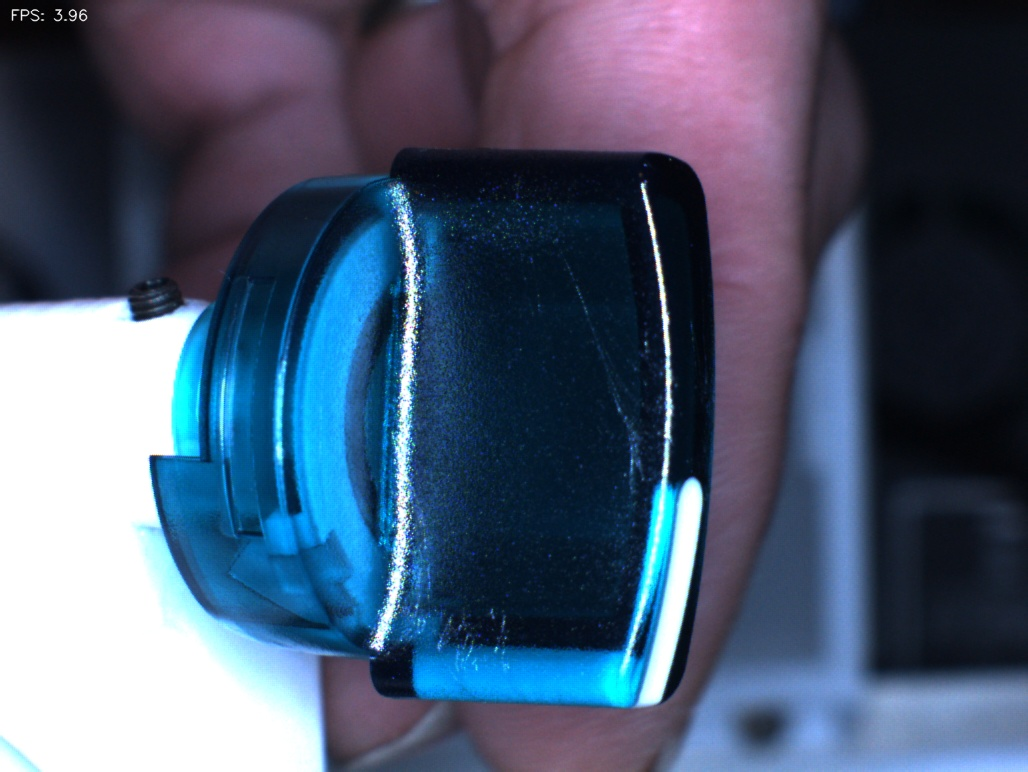Givrage: (427, 600, 526, 689)
